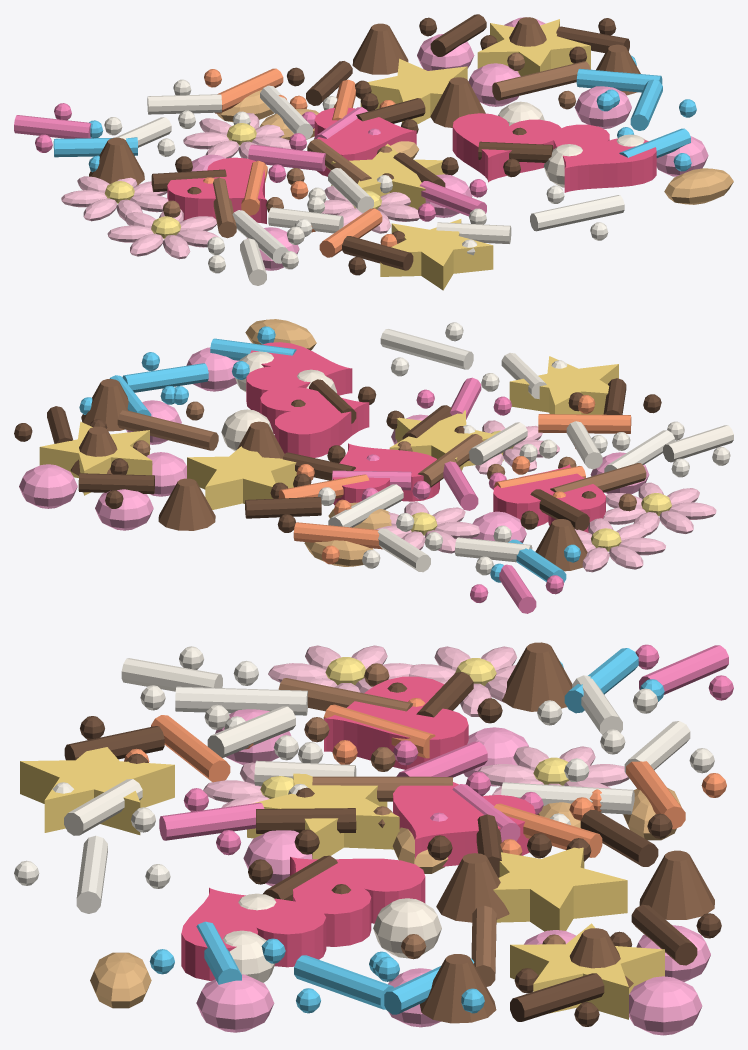
File: toppings_heart_2_tier.glb
The picture shows the model from 3 angles, top to bottom: view 1: azimuth 30°, elevation 25°; view 2: azimuth 150°, elevation 25°; view 3: azimuth 270°, elevation 25°; orthographic projection. The views are drawn at different scales.
Parts seen in each view (by area): view 1: ToppingHeart_heart_2_02, ToppingStar_heart_2_00, ToppingHeart_heart_2_01, ToppingHeart_heart_2_00, ToppingStar_heart_2_03, ToppingHeart_heart_2_03, ToppingStar_heart_2_02, ToppingStar_heart_2_01, ToppingChocolateChip_heart_2_00, ToppingNut_heart_2_03, ToppingSprinkle_heart_2_13_Body, ToppingSprinkle_heart_2_04_Body (+56 smaller); view 2: ToppingHeart_heart_2_01, ToppingStar_heart_2_02, ToppingStar_heart_2_00, ToppingHeart_heart_2_02, ToppingHeart_heart_2_00, ToppingStar_heart_2_03, ToppingHeart_heart_2_03, ToppingStar_heart_2_01, ToppingChocolateChip_heart_2_00, ToppingDot_heart_2_07, ToppingSprinkle_heart_2_04_Body, ToppingSprinkle_heart_2_13_Body (+54 smaller); view 3: ToppingStar_heart_2_02, ToppingHeart_heart_2_01, ToppingStar_heart_2_00, ToppingHeart_heart_2_02, ToppingHeart_heart_2_00, ToppingStar_heart_2_03, ToppingHeart_heart_2_03, ToppingStar_heart_2_01, ToppingChocolateChip_heart_2_00, ToppingDot_heart_2_07, ToppingDot_heart_2_02, ToppingChocolateChip_heart_2_02 (+52 smaller).
Boxes of the visible parts, bbox=[...] form: ToppingHeart_heart_2_02: bbox=[553, 124, 656, 192]; ToppingStar_heart_2_00: bbox=[380, 219, 493, 290]; ToppingHeart_heart_2_01: bbox=[452, 113, 561, 182]; ToppingHeart_heart_2_00: bbox=[167, 157, 266, 223]; ToppingStar_heart_2_03: bbox=[477, 19, 590, 76]; ToppingHeart_heart_2_03: bbox=[314, 107, 416, 176]; ToppingStar_heart_2_02: bbox=[360, 58, 467, 124]; ToppingStar_heart_2_01: bbox=[331, 143, 444, 209]; ToppingChocolateChip_heart_2_00: bbox=[352, 23, 408, 74]; ToppingNut_heart_2_03: bbox=[664, 168, 733, 204]; ToppingSprinkle_heart_2_13_Body: bbox=[530, 195, 624, 231]; ToppingSprinkle_heart_2_04_Body: bbox=[492, 61, 590, 100]; ToppingHeart_heart_2_01: bbox=[260, 386, 369, 457]; ToppingStar_heart_2_02: bbox=[187, 446, 296, 509]; ToppingStar_heart_2_00: bbox=[509, 356, 618, 414]; ToppingHeart_heart_2_02: bbox=[246, 342, 352, 412]; ToppingHeart_heart_2_00: bbox=[493, 464, 605, 532]; ToppingStar_heart_2_03: bbox=[39, 421, 152, 495]; ToppingHeart_heart_2_03: bbox=[333, 443, 439, 505]; ToppingStar_heart_2_01: bbox=[389, 410, 503, 470]; ToppingChocolateChip_heart_2_00: bbox=[158, 478, 215, 530]; ToppingDot_heart_2_07: bbox=[19, 464, 77, 508]; ToppingSprinkle_heart_2_04_Body: bbox=[117, 410, 218, 450]; ToppingSprinkle_heart_2_13_Body: bbox=[380, 329, 473, 369]; ToppingStar_heart_2_02: bbox=[493, 847, 627, 931]; ToppingHeart_heart_2_01: bbox=[290, 857, 425, 946]; ToppingStar_heart_2_00: bbox=[20, 747, 174, 834]; ToppingHeart_heart_2_02: bbox=[181, 887, 326, 980]; ToppingHeart_heart_2_00: bbox=[324, 676, 468, 769]; ToppingStar_heart_2_03: bbox=[510, 923, 664, 1019]; ToppingHeart_heart_2_03: bbox=[393, 782, 535, 866]; ToppingStar_heart_2_01: bbox=[247, 773, 399, 859]; ToppingChocolateChip_heart_2_00: bbox=[639, 850, 714, 919]; ToppingDot_heart_2_07: bbox=[629, 976, 702, 1035]; ToppingDot_heart_2_02: bbox=[196, 974, 274, 1032]; ToppingChocolateChip_heart_2_02: bbox=[502, 642, 572, 711].
Bounding box in the file's own units: 1.01 × 0.0993 × 0.7939.
